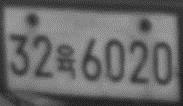0: (104, 38, 125, 83), (153, 42, 173, 85)
2: (127, 39, 151, 84), (32, 33, 53, 78)
3: (7, 32, 30, 76)
6: (81, 39, 102, 82)
육: (56, 44, 77, 80)
